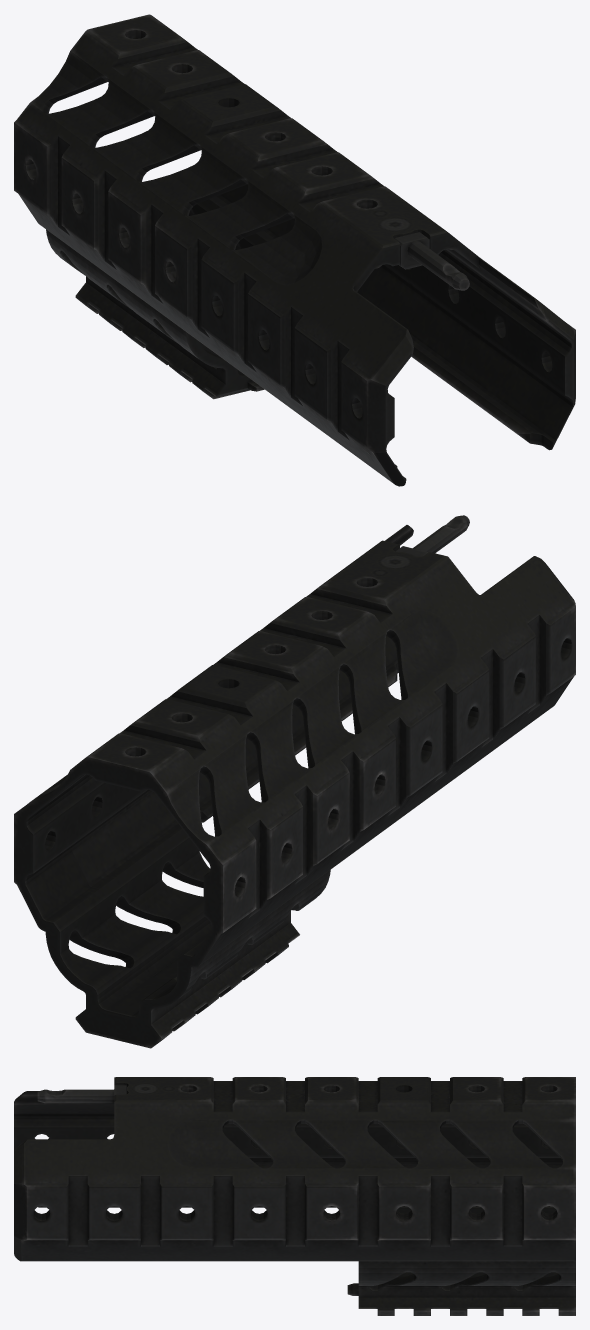
3 views of the same model, one above another, from view 1: azimuth 30°, elevation 25°; view 2: azimuth 150°, elevation 25°; view 3: azimuth 270°, elevation 25° (orthographic). The views are drawn at different scales.
Parts seen in each view (by area): view 1: TW_5894a42086f77426d2590762_PZ_Import; view 2: TW_5894a42086f77426d2590762_PZ_Import; view 3: TW_5894a42086f77426d2590762_PZ_Import.
Part boxes in pixels (left/top/right/bottom): TW_5894a42086f77426d2590762_PZ_Import: left=14, top=14, right=575, bottom=486; TW_5894a42086f77426d2590762_PZ_Import: left=14, top=515, right=575, bottom=1048; TW_5894a42086f77426d2590762_PZ_Import: left=14, top=1077, right=575, bottom=1315.
Bounding box in the file's own units: 0.03 × 0.0897 × 0.0378.
Materials: 1 (1 with a texture image).
